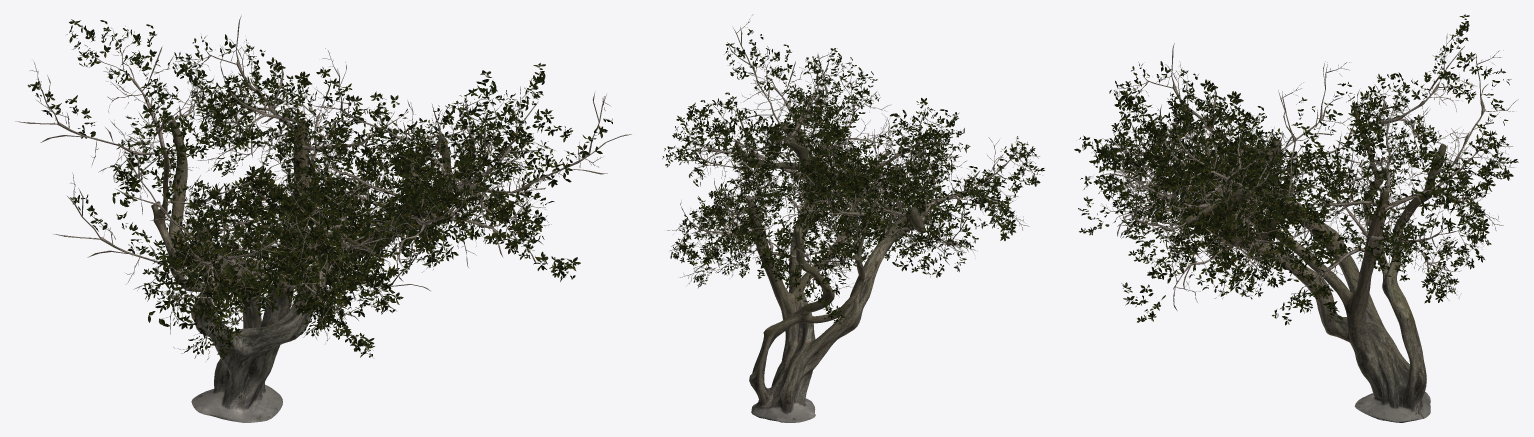
The model's file is 2-tree.glb.
The picture shows the model from 3 angles, left to right: view 1: azimuth 30°, elevation 25°; view 2: azimuth 150°, elevation 25°; view 3: azimuth 270°, elevation 25°; orthographic projection. The views are drawn at different scales.
Parts seen in each view (by area): view 1: island_tree_02_LOD1; view 2: island_tree_02_LOD1; view 3: island_tree_02_LOD1.
Part boxes in pixels (bbox=[...]): island_tree_02_LOD1: bbox=[15, 15, 631, 422]; island_tree_02_LOD1: bbox=[662, 14, 1044, 422]; island_tree_02_LOD1: bbox=[1074, 14, 1518, 422].
Bounding box in the file's own units: 6.18 × 5.03 × 6.01.
3 materials, 3 textured.
